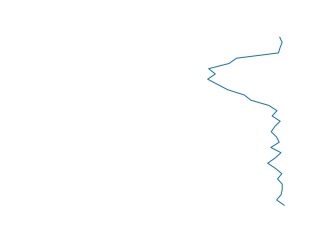distalBar: (203, 38, 291, 206)
